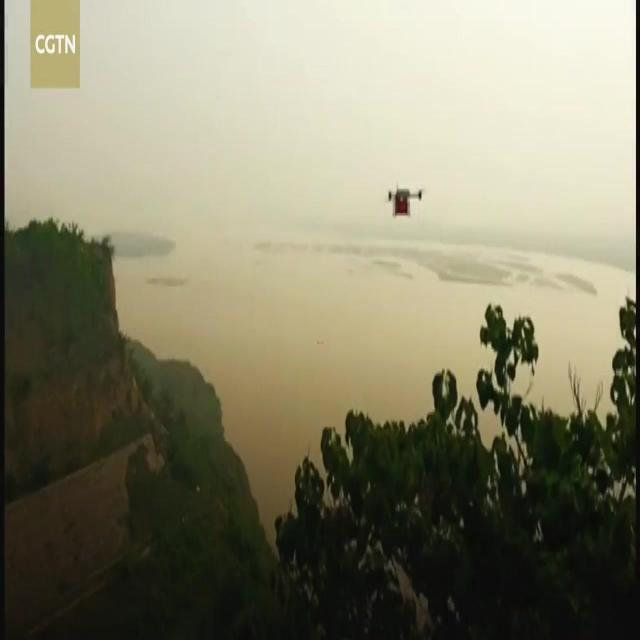UAV: (388, 183, 426, 218)
